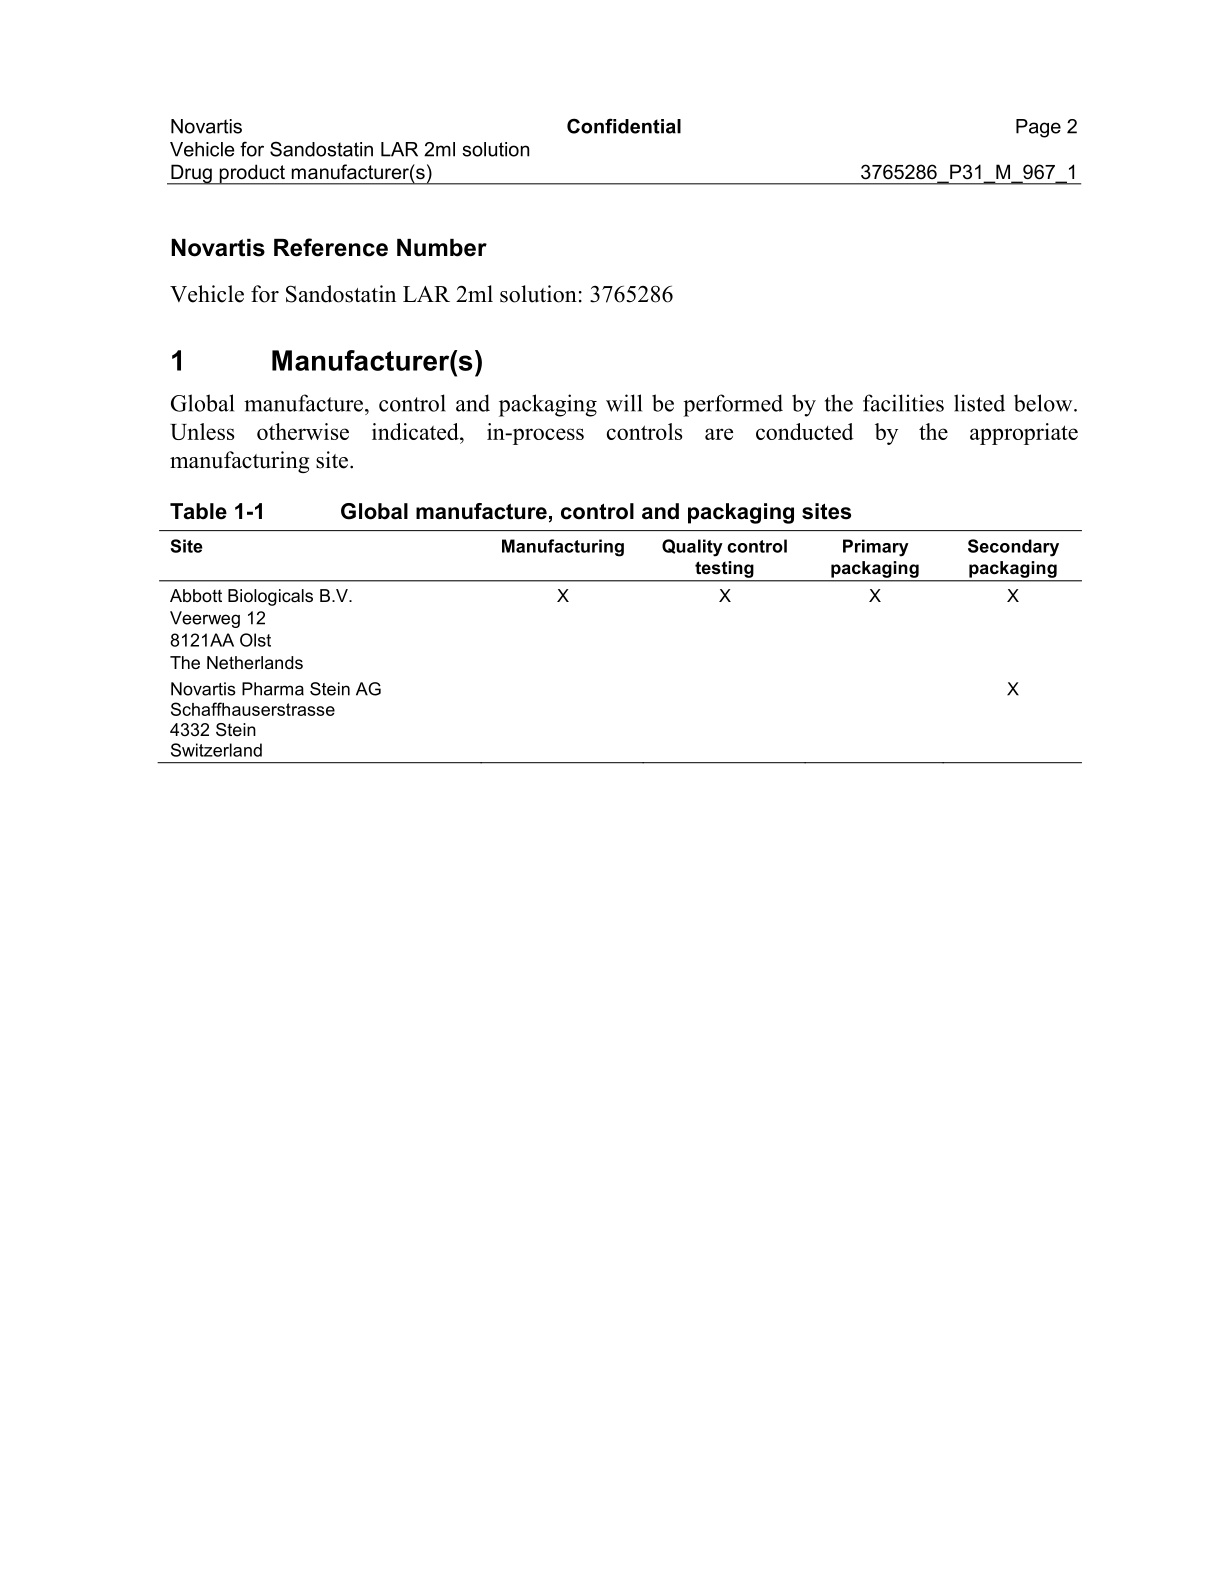partial_lined: (158, 528, 1084, 766)
